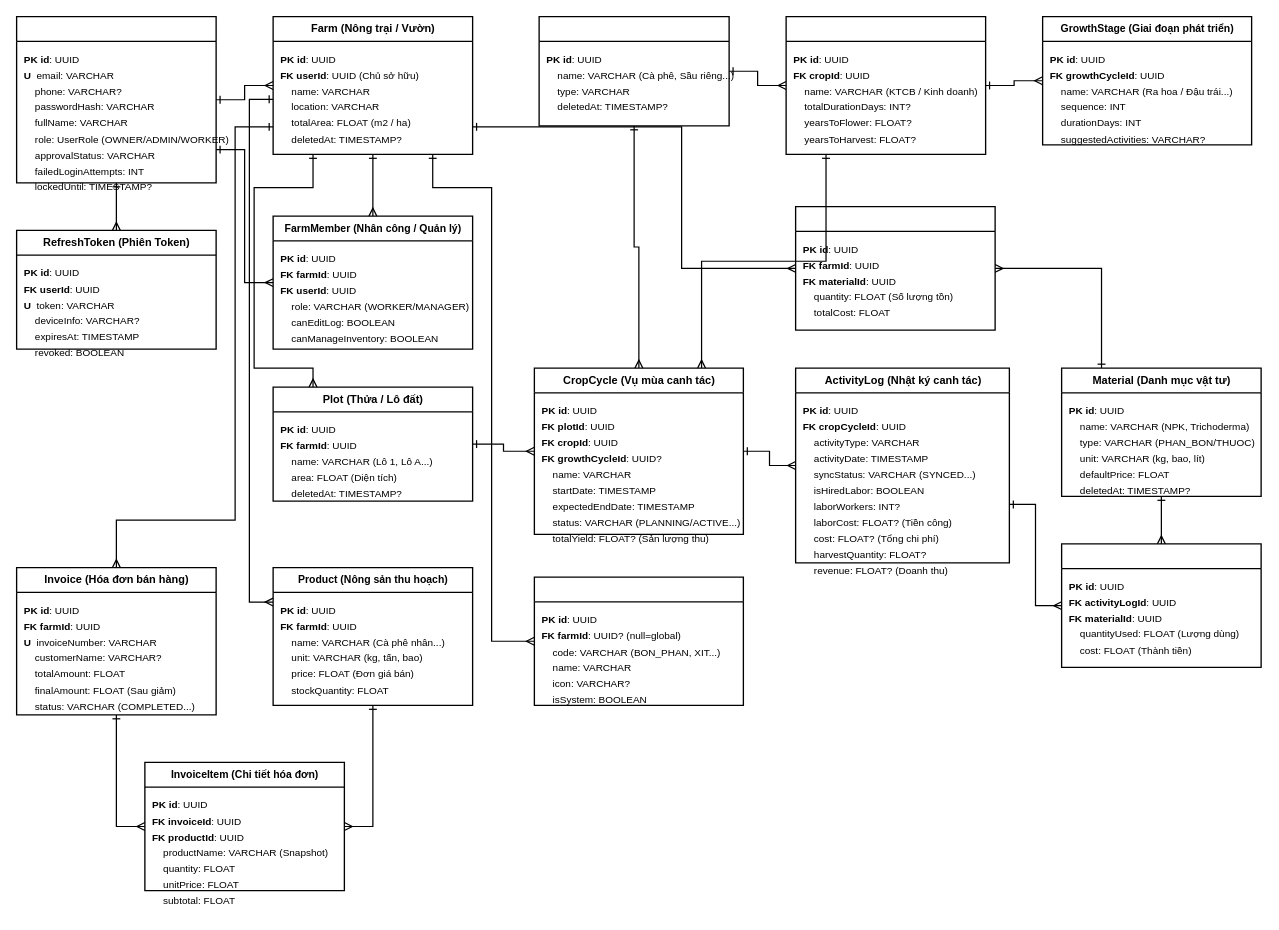
This 1279x930 diagram has some shape labels left out. Each missing label, with the box of its shape:
ActivityMaterial (Vật tư ca làm): (1060, 543, 1261, 668)
ActivityType (Loại hoạt động): (533, 576, 744, 706)
Crop (Giống cây lâu năm): (538, 15, 729, 126)
GrowthCycle (Chu kỳ sinh trưởng): (785, 15, 986, 155)
Inventory (Tồn kho vật tư): (794, 205, 995, 330)
User (Người dùng / Chủ hộ): (15, 15, 216, 183)
